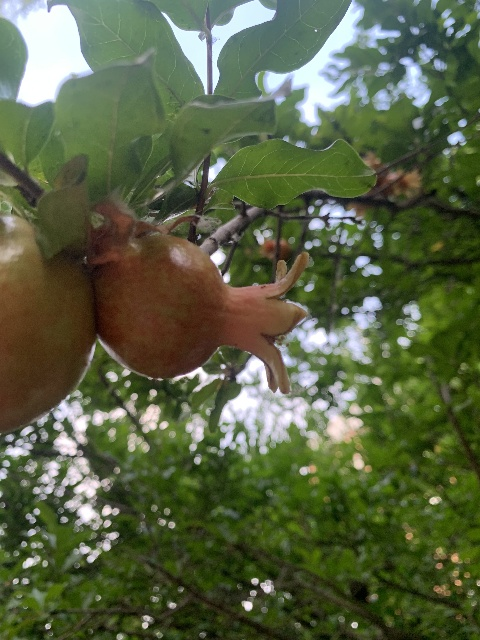early-fruit: (95, 233, 310, 395)
